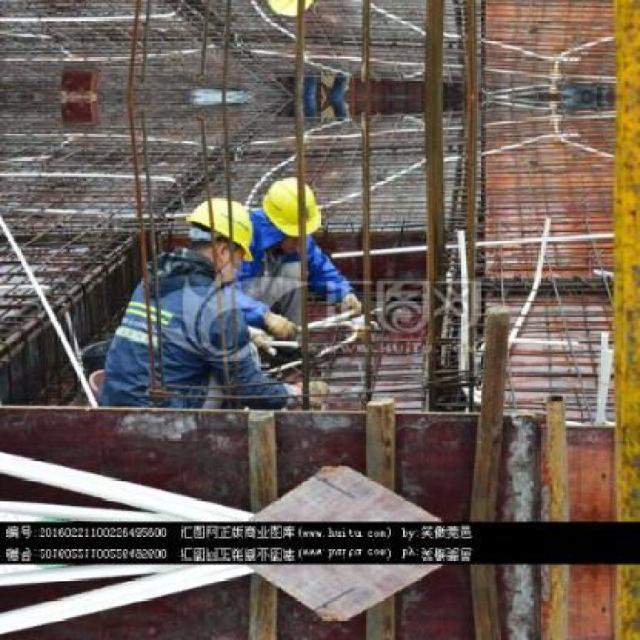helmet: (186, 194, 254, 280), (253, 170, 319, 248), (252, 0, 320, 22)
